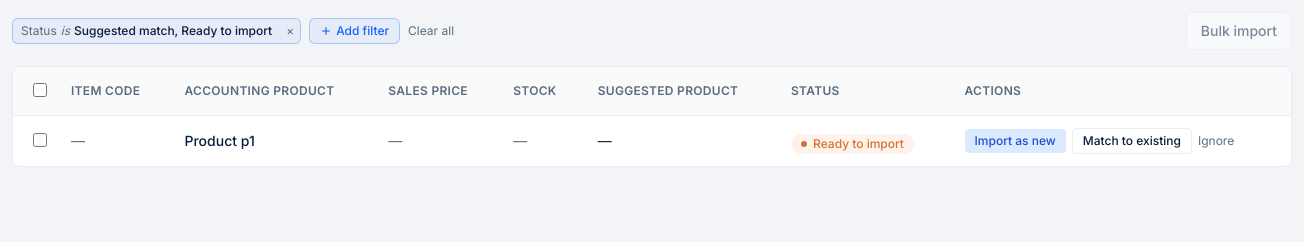
ProductsTab › selecting a row enables bulk import and queues an import with the selected ids
Expected: the text "Product p1" is shown, [168, 116, 372, 166]
Expected: the button "Bulk import" is disabled, [1186, 12, 1292, 50]
Click the checkbox named "Select Product p1": (40, 140) [33, 133, 47, 147]
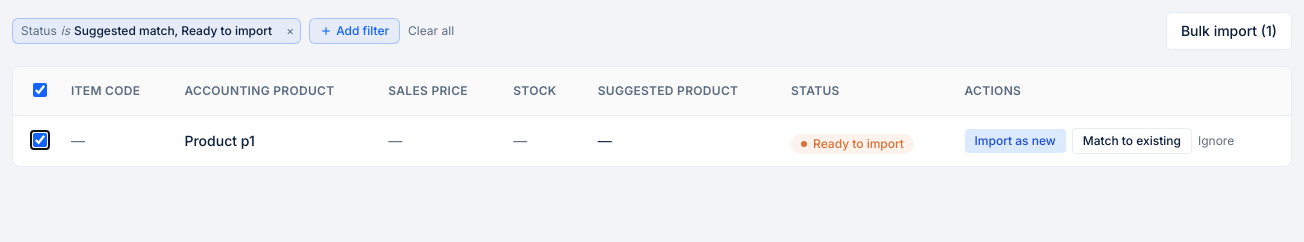
Click the button "Bulk import (1)": (1229, 31) [1166, 12, 1292, 50]
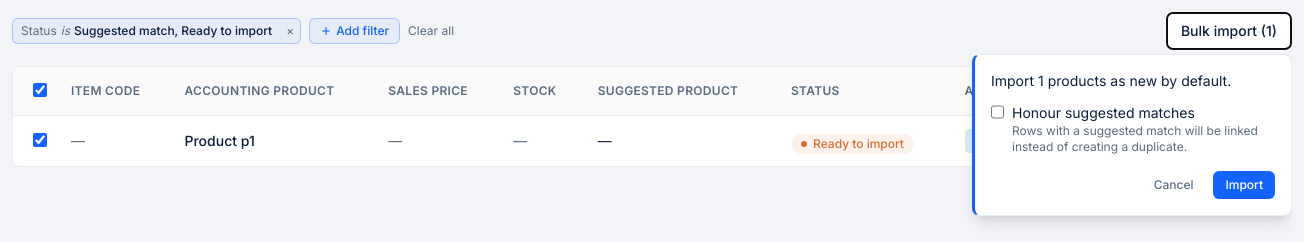
Click the button "Import": (1244, 185) [1214, 171, 1275, 199]
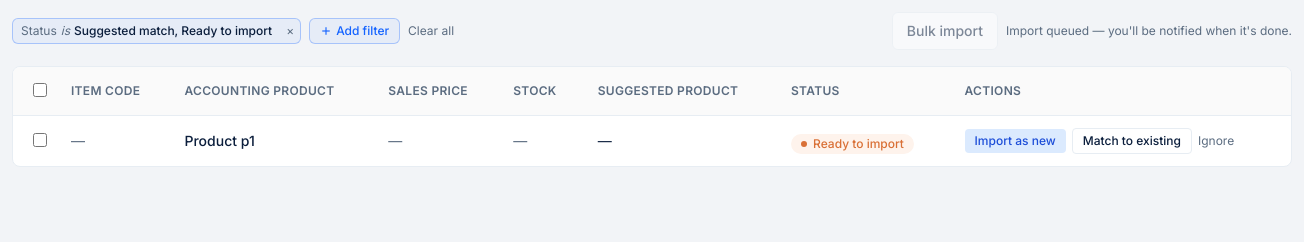
Now the text "Import queued — you'll be notified when it's done." is shown, box [1006, 23, 1292, 39]
